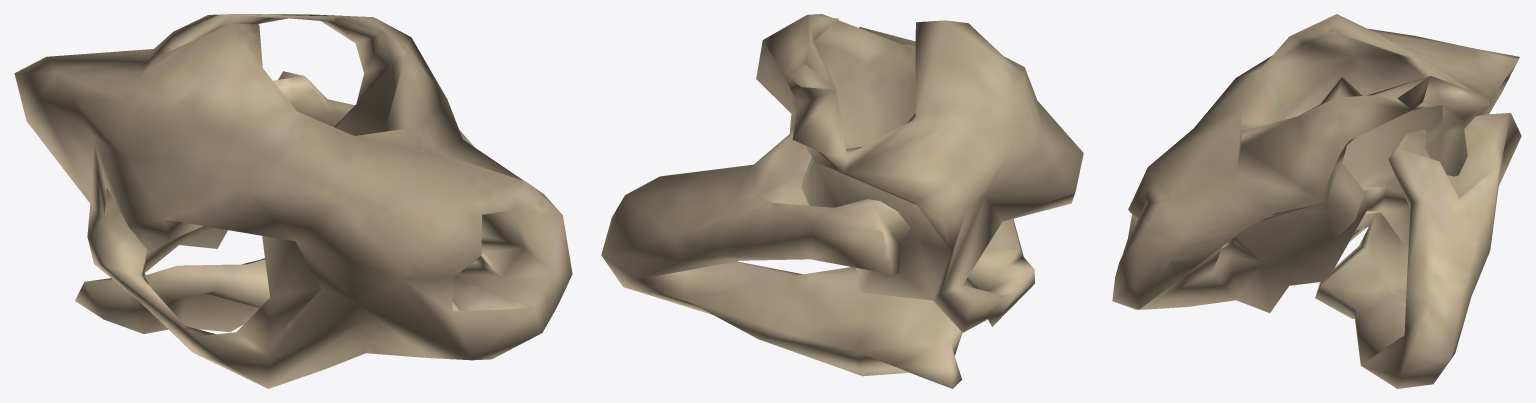
The model's file is wildcat_skull.glb.
3 views of the same model, side by side, from view 1: azimuth 30°, elevation 25°; view 2: azimuth 150°, elevation 25°; view 3: azimuth 270°, elevation 25° (orthographic). The views are drawn at different scales.
Parts seen in each view (by area): view 1: PM3D_Cylinder3D1.003_part1; view 2: PM3D_Cylinder3D1.003_part1; view 3: PM3D_Cylinder3D1.003_part1.
Part boxes in pixels (x1,y1,x2,y2): PM3D_Cylinder3D1.003_part1: (14,14,572,388); PM3D_Cylinder3D1.003_part1: (601,14,1083,388); PM3D_Cylinder3D1.003_part1: (1112,14,1521,388).
Bounding box in the file's own units: 0.397 × 0.3148 × 0.3965.
Materials: 1 (1 with a texture image).
